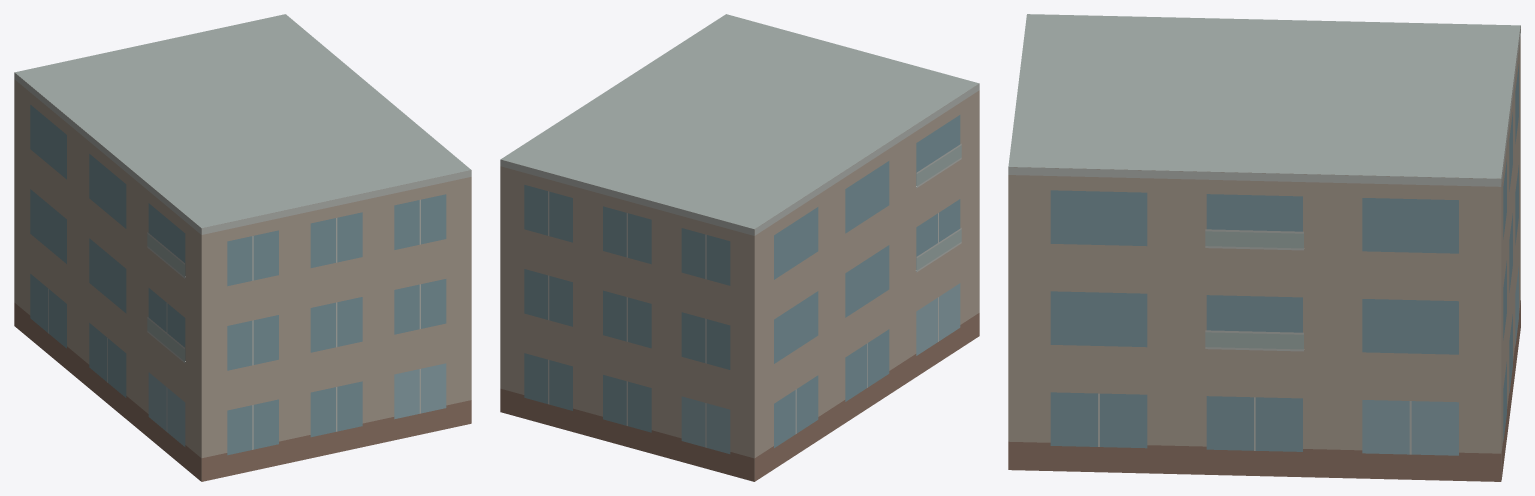
File: survey-upis-32886313.glb
3 views of the same model, side by side, from view 1: azimuth 30°, elevation 25°; view 2: azimuth 150°, elevation 25°; view 3: azimuth 270°, elevation 25° (orthographic). The views are drawn at different scales.
Visible parts, largest first — view 1: survey-upis-32886313.tmp; view 2: survey-upis-32886313.tmp; view 3: survey-upis-32886313.tmp.
Part boxes in pixels (x1,y1,x2,y2): survey-upis-32886313.tmp: [14, 14, 471, 481]; survey-upis-32886313.tmp: [500, 14, 979, 481]; survey-upis-32886313.tmp: [1008, 14, 1520, 481].
Bounding box in the file's own units: 10.68 × 9.15 × 14.03.
